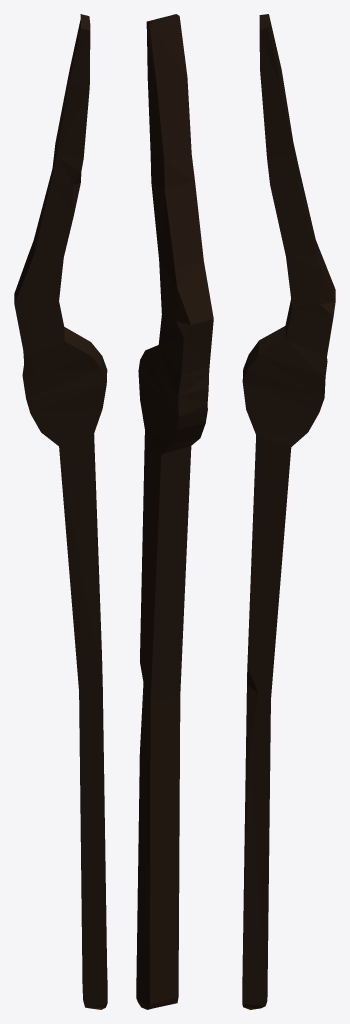
The model's file is SFFA_Pincer_003.fbx.
3 views of the same model, side by side, from view 1: azimuth 90°, elevation 25°; view 2: azimuth 210°, elevation 25°; view 3: azimuth 270°, elevation 25° (orthographic).
Visible parts, largest first — view 1: SFFA_Pincer_003; view 2: SFFA_Pincer_003; view 3: SFFA_Pincer_003.
Part boxes in pixels (<box>): SFFA_Pincer_003: <box>14,14,107,1009</box>; SFFA_Pincer_003: <box>136,14,213,1009</box>; SFFA_Pincer_003: <box>242,14,335,1009</box>.
Size of the model in its own units: 2.35 by 70.47 by 6.08.
